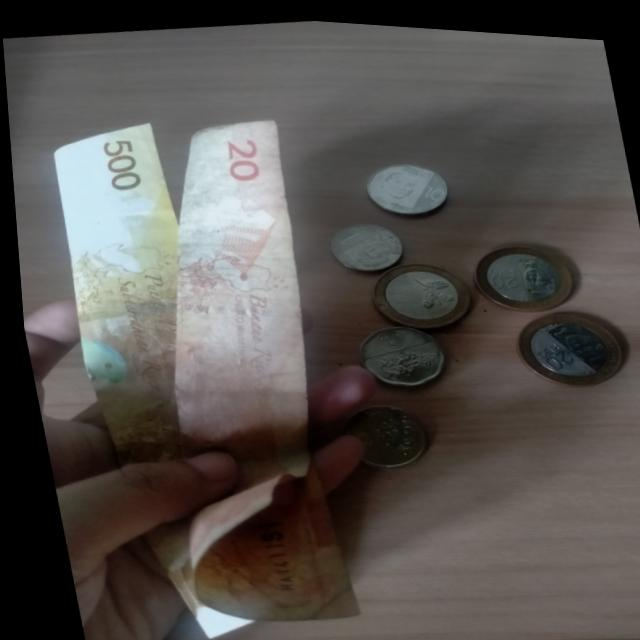20_New_Front: (530, 328, 574, 367)
